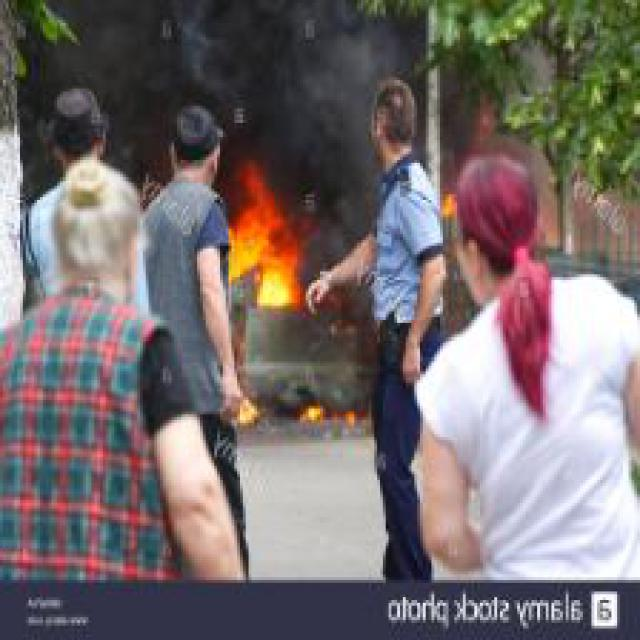fire: (225, 154, 308, 320), (297, 394, 366, 432), (234, 394, 263, 429), (437, 186, 457, 217)
